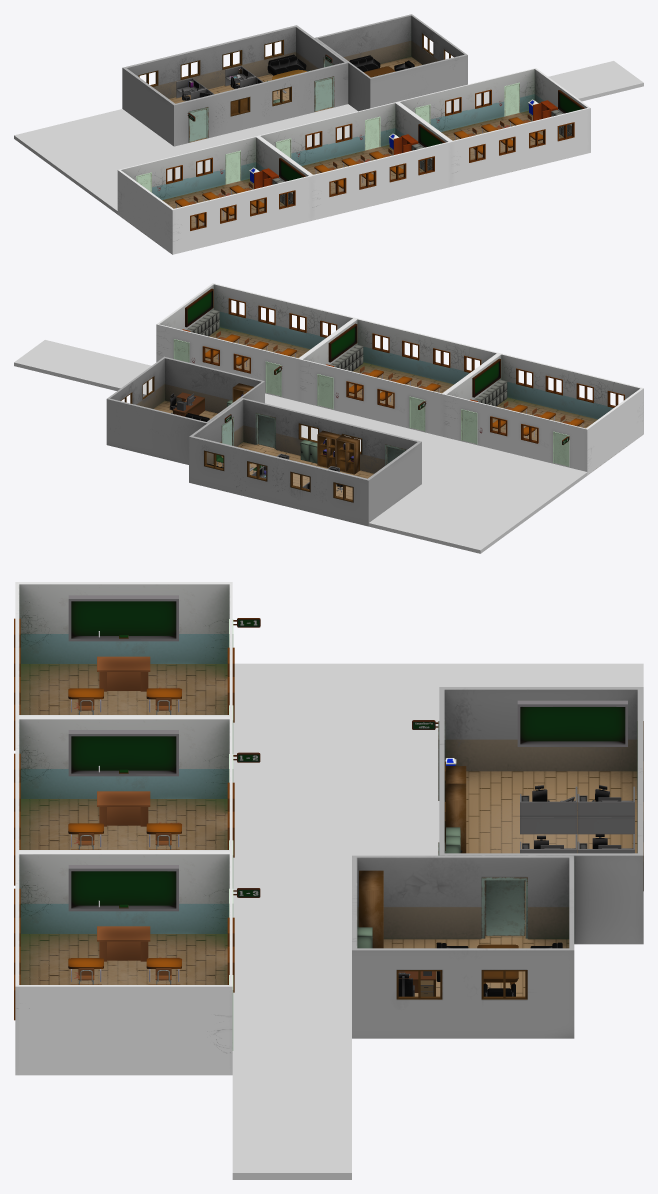
Rendered from map.fbx.
3 renders of one model, top to bottom at view 1: azimuth 30°, elevation 25°; view 2: azimuth 150°, elevation 25°; view 3: azimuth 270°, elevation 25°, orthographic. The views are drawn at different scales.
Visible parts, largest first — view 1: Cube.038, classroom, classroom.001, classroom.002, Cube.037, Cube.039, Cube, Cube.026, Cube.014, Cube.052, Cube.096, Cube.017 (+13 smaller); view 2: Cube.038, classroom, Cube, classroom.001, classroom.002, Cube.037, Cube.039, Cube.052, Cube.014, Cube.026, Cube.103, Cube.102 (+16 smaller); view 3: Cube, classroom.002, Cube.037, Cube.038, classroom, classroom.001, Cube.039, Cube.104, Cube.006, Cube.023, Cube.036, Cube.173 (+13 smaller).
Part boxes in pixels (left/top/right/bottom): Cube.038: left=122, top=25, right=348, bottom=146; classroom: left=117, top=136, right=311, bottom=254; classroom.001: left=257, top=102, right=451, bottom=220; classroom.002: left=397, top=68, right=590, bottom=186; Cube.037: left=315, top=14, right=467, bottom=111; Cube.039: left=14, top=109, right=183, bottom=188; Cube: left=83, top=61, right=643, bottom=214; Cube.026: left=305, top=123, right=434, bottom=196; Cube.014: left=166, top=157, right=295, bottom=230; Cube.052: left=445, top=89, right=574, bottom=162; Cube.096: left=267, top=54, right=306, bottom=75; Cube.017: left=315, top=78, right=332, bottom=111; Cube.038: left=189, top=398, right=421, bottom=526; classroom: left=443, top=353, right=643, bottom=475; Cube: left=14, top=340, right=587, bottom=501; classroom.001: left=300, top=318, right=499, bottom=436; classroom.002: left=156, top=283, right=356, bottom=401; Cube.037: left=106, top=356, right=264, bottom=464; Cube.039: left=368, top=471, right=551, bottom=553; Cube.052: left=202, top=298, right=337, bottom=373; Cube.014: left=490, top=368, right=624, bottom=443; Cube.026: left=346, top=333, right=481, bottom=408; Cube.103: left=336, top=435, right=359, bottom=474; Cube.102: left=317, top=430, right=341, bottom=467; Cube: left=232, top=663, right=439, bottom=1179; classroom.002: left=15, top=852, right=232, bottom=1075; Cube.037: left=352, top=855, right=574, bottom=1038; Cube.038: left=439, top=687, right=643, bottom=944; classroom: left=15, top=582, right=232, bottom=716; classroom.001: left=15, top=717, right=232, bottom=851; Cube.039: left=370, top=663, right=643, bottom=768; Cube.104: left=517, top=700, right=627, bottom=746; Cube.006: left=68, top=595, right=178, bottom=641; Cube.023: left=68, top=730, right=178, bottom=776; Cube.036: left=68, top=865, right=178, bottom=911; Cube.173: left=485, top=880, right=525, bottom=936.
Bounding box in the file's own units: 2187 × 177 × 1144.
